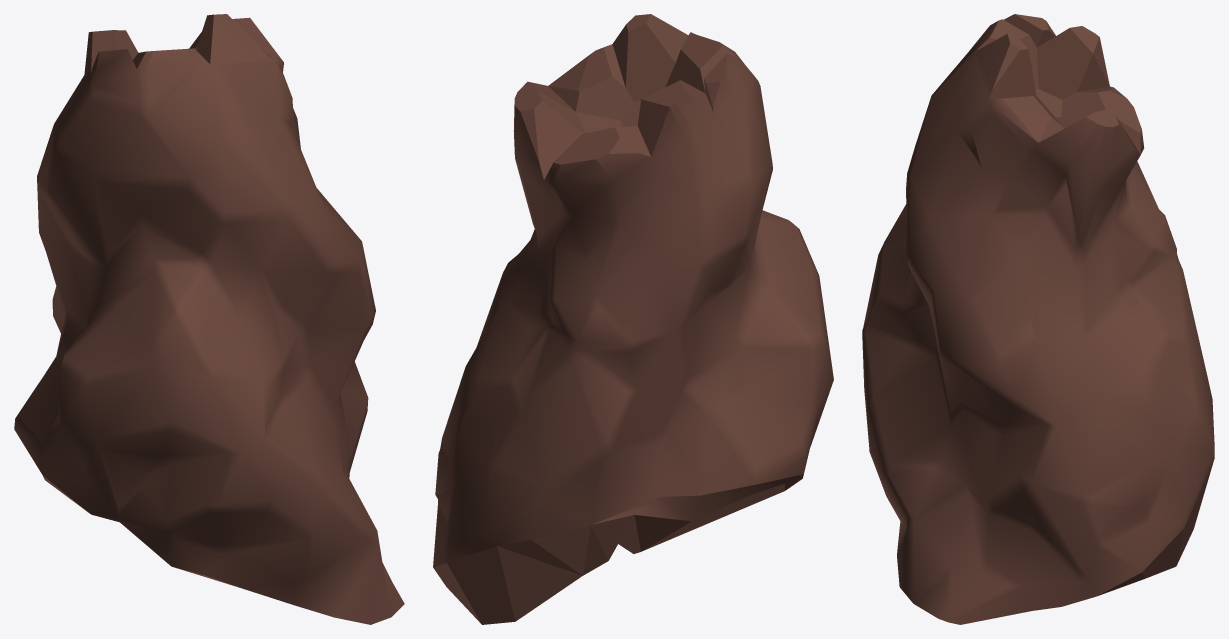
File: p_mesh_hvs_stalagmite_large02_destruction_part08.fbx
3 renders of one model, left to right at view 1: azimuth 30°, elevation 25°; view 2: azimuth 150°, elevation 25°; view 3: azimuth 270°, elevation 25°, orthographic. The views are drawn at different scales.
Parts seen in each view (by area): view 1: p_large02_part8; view 2: p_large02_part8; view 3: p_large02_part8.
Part boxes in pixels (x1=…): p_large02_part8: x1=14, y1=14, x2=404, y2=624; p_large02_part8: x1=433, y1=14, x2=833, y2=624; p_large02_part8: x1=862, y1=14, x2=1214, y2=624.
Size of the model in its own units: 6.04 by 10.3 by 6.26.
